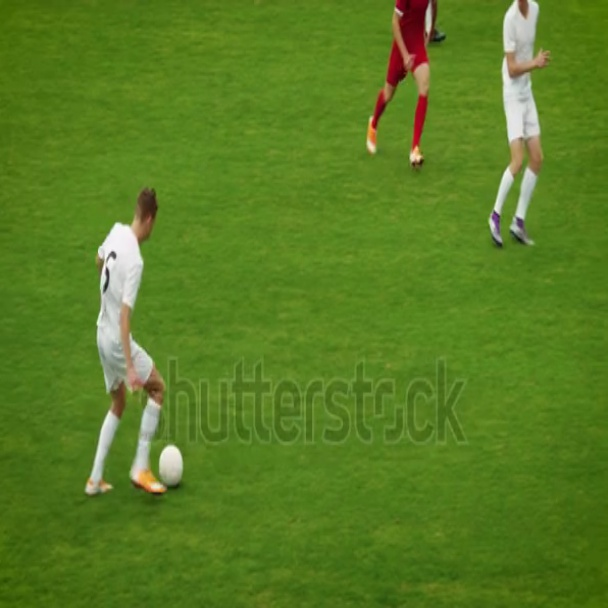ball: (155, 441, 186, 489)
